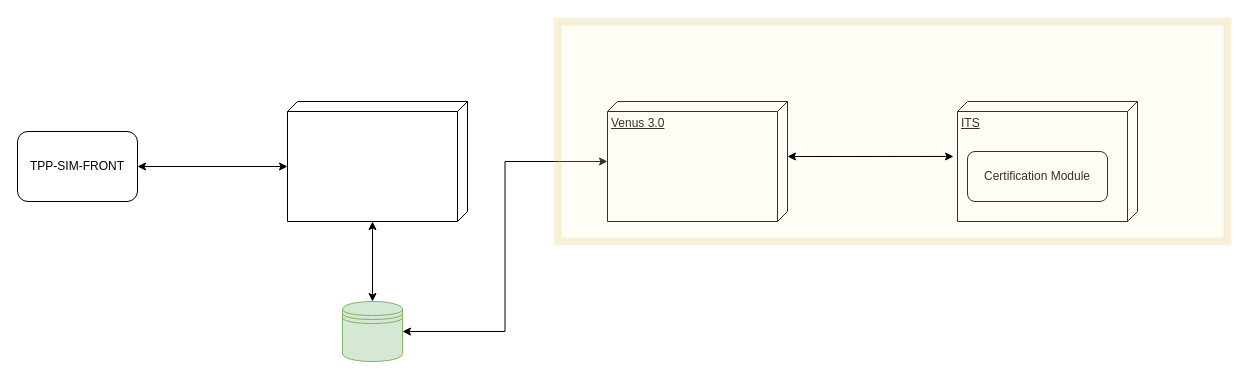
This 1249x379 diagram has some shape labels left out. The shapes that lost their labels are listed below. From the top down, each one's centre as x and y in pixels, then its label:
[892,131]: PaaS
[377,161]: TPP-SIM-BACK
